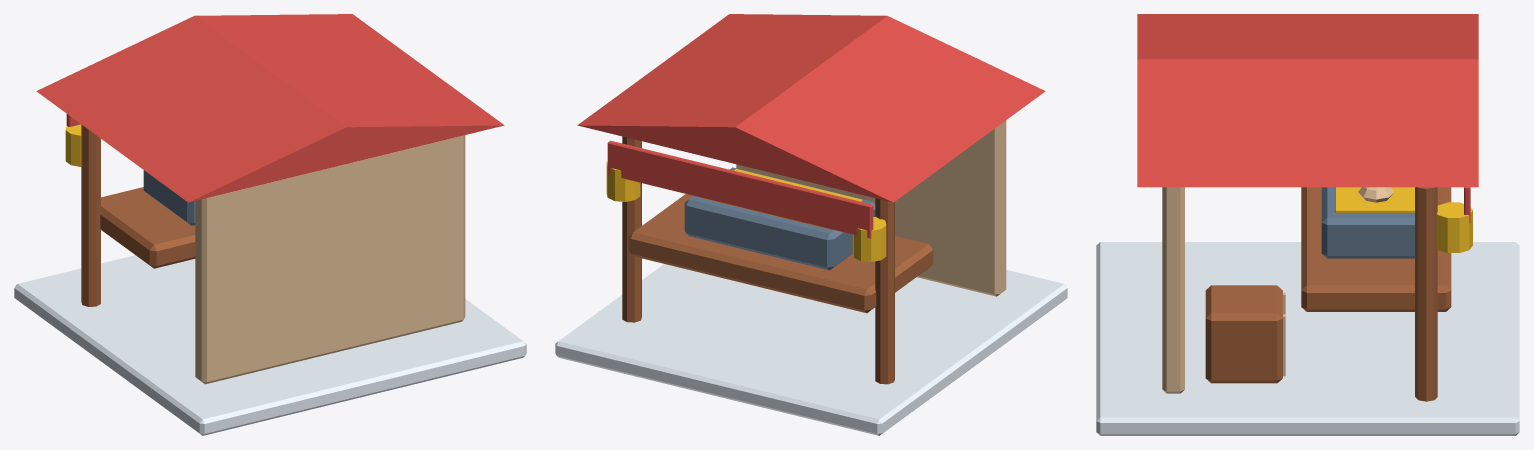
Rendered from Building_Oden_2x2_v001.fbx.
3 renders of one model, left to right at view 1: azimuth 30°, elevation 25°; view 2: azimuth 150°, elevation 25°; view 3: azimuth 270°, elevation 25°, orthographic. The views are drawn at different scales.
Visible parts, largest first — view 1: Roof, BackWall, Foundation, Worktop, Post.001, Pot, Lantern.001; view 2: Roof, Foundation, BackWall, Worktop, Curtain_Anim, Pot, Post.001, Post, Lantern.001, Lantern, Broth; view 3: Roof, Foundation, Worktop, Crate, Post, BackWall, Pot, Lantern, Broth, OdenFood.
Boxes of the visible parts, x1=… form: Roof: x1=36, y1=14, x2=504, y2=202; BackWall: x1=195, y1=135, x2=465, y2=384; Foundation: x1=14, y1=255, x2=526, y2=435; Worktop: x1=100, y1=187, x2=195, y2=268; Post.001: x1=81, y1=124, x2=100, y2=306; Pot: x1=143, y1=170, x2=195, y2=225; Lantern.001: x1=65, y1=124, x2=81, y2=166; Roof: x1=577, y1=14, x2=1045, y2=202; Foundation: x1=555, y1=264, x2=1067, y2=435; BackWall: x1=736, y1=120, x2=1006, y2=296; Worktop: x1=628, y1=194, x2=933, y2=313; Curtain_Anim: x1=607, y1=140, x2=873, y2=238; Pot: x1=684, y1=167, x2=875, y2=270; Post.001: x1=875, y1=198, x2=894, y2=384; Post: x1=622, y1=136, x2=641, y2=322; Lantern.001: x1=852, y1=217, x2=886, y2=261; Lantern: x1=606, y1=161, x2=640, y2=201; Broth: x1=700, y1=169, x2=862, y2=228; Roof: x1=1137, y1=14, x2=1478, y2=187; Foundation: x1=1096, y1=242, x2=1519, y2=435; Worktop: x1=1301, y1=187, x2=1451, y2=311; Crate: x1=1205, y1=285, x2=1282, y2=383; Post: x1=1415, y1=187, x2=1437, y2=401; BackWall: x1=1162, y1=187, x2=1184, y2=393; Pot: x1=1321, y1=187, x2=1414, y2=258; Lantern: x1=1436, y1=202, x2=1472, y2=252; Broth: x1=1335, y1=187, x2=1414, y2=212; OdenFood: x1=1358, y1=187, x2=1394, y2=202.
Bounding box in the file's own units: 186 × 140 × 186.
